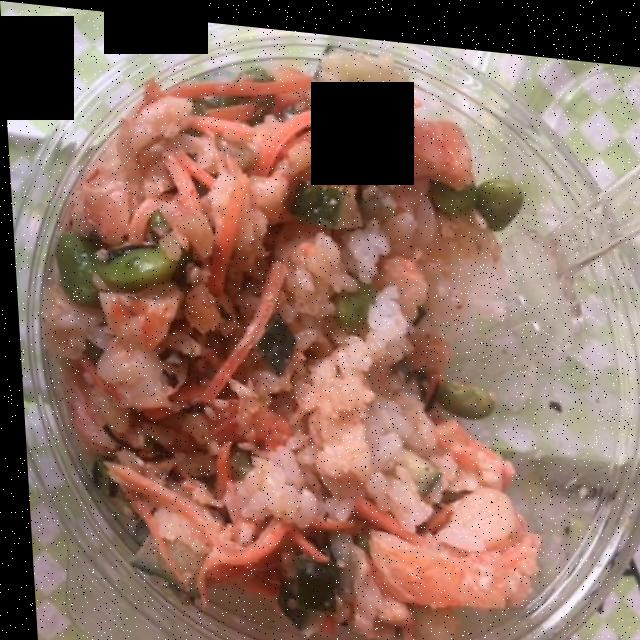cucumber: (121, 169, 439, 595)
rice: (74, 61, 552, 640)
shrimp-prawn-small: (35, 88, 529, 605)
